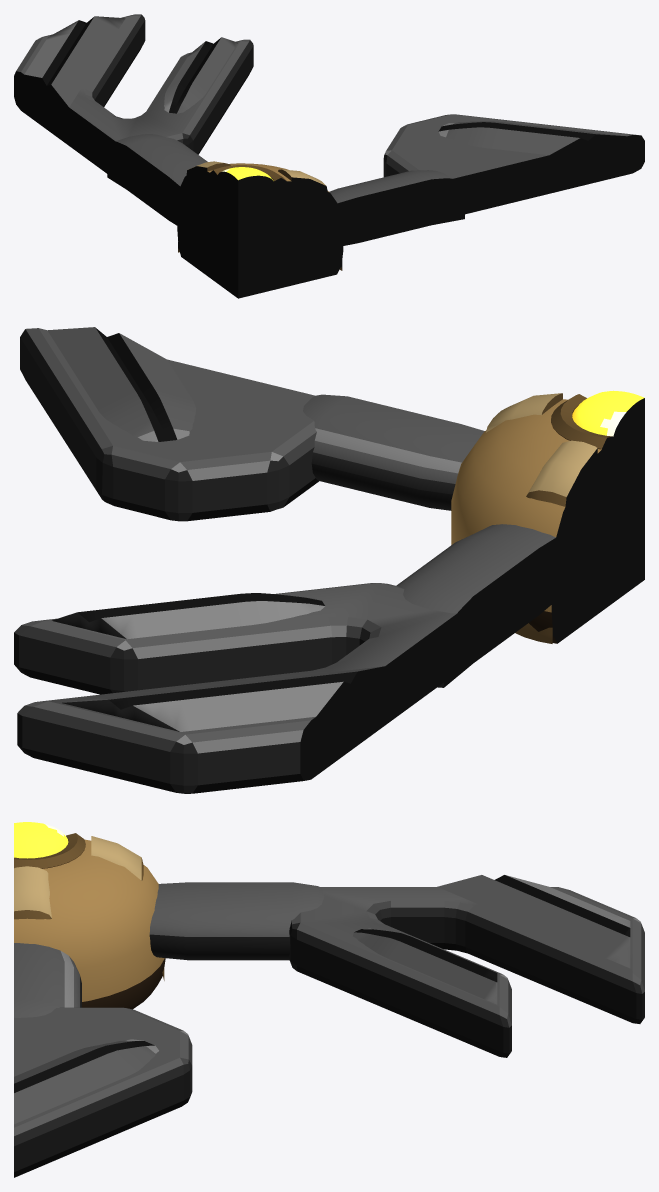
Rendered from spin_claw_79.glb.
The picture shows the model from 3 angles, top to bottom: view 1: azimuth 30°, elevation 25°; view 2: azimuth 150°, elevation 25°; view 3: azimuth 270°, elevation 25°; orthographic projection. The views are drawn at different scales.
Visible parts, largest first — view 1: spin_claw_79_hub_dome, spin_claw_79_arm0_plate, spin_claw_79_arm1_plate, spin_claw_79_arm1_rod, spin_claw_79_arm0_rod, spin_claw_79_arm0_ridge0, spin_claw_79_arm1_ridge0, spin_claw_79_arm0_ridge1, spin_claw_79_hub_lens, spin_claw_79_hub_rib1, spin_claw_79_hub_bezel; view 2: spin_claw_79_arm0_plate, spin_claw_79_arm1_plate, spin_claw_79_hub_dome, spin_claw_79_arm0_rod, spin_claw_79_arm1_rod, spin_claw_79_arm0_ridge0, spin_claw_79_arm1_ridge0, spin_claw_79_arm0_ridge1, spin_claw_79_hub_rib0, spin_claw_79_hub_lens, spin_claw_79_hub_bezel, spin_claw_79_hub_rib1; view 3: spin_claw_79_arm0_plate, spin_claw_79_arm1_plate, spin_claw_79_hub_dome, spin_claw_79_arm0_rod, spin_claw_79_arm0_ridge0, spin_claw_79_arm1_ridge0, spin_claw_79_arm1_rod, spin_claw_79_arm0_ridge1, spin_claw_79_hub_rib1, spin_claw_79_hub_lens, spin_claw_79_hub_rib0, spin_claw_79_hub_bezel.
Boxes of the visible parts, <box> form: spin_claw_79_hub_dome: <box>177,163,343,298</box>; spin_claw_79_arm0_plate: <box>14,14,253,185</box>; spin_claw_79_arm1_plate: <box>383,114,644,221</box>; spin_claw_79_arm1_rod: <box>310,170,464,251</box>; spin_claw_79_arm0_rod: <box>107,134,207,237</box>; spin_claw_79_arm0_ridge0: <box>20,16,125,117</box>; spin_claw_79_arm1_ridge0: <box>438,121,633,163</box>; spin_claw_79_arm0_ridge1: <box>164,37,237,113</box>; spin_claw_79_hub_lens: <box>217,167,274,201</box>; spin_claw_79_hub_rib1: <box>278,169,342,270</box>; spin_claw_79_hub_bezel: <box>210,165,286,200</box>; spin_claw_79_arm0_plate: <box>14,583,476,793</box>; spin_claw_79_arm1_plate: <box>20,328,319,521</box>; spin_claw_79_hub_dome: <box>451,399,644,643</box>; spin_claw_79_arm0_rod: <box>396,524,581,687</box>; spin_claw_79_arm1_rod: <box>303,394,484,510</box>; spin_claw_79_arm0_ridge0: <box>62,665,391,731</box>; spin_claw_79_arm1_ridge0: <box>47,327,195,441</box>; spin_claw_79_arm0_ridge1: <box>52,593,324,639</box>; spin_claw_79_hub_rib0: <box>515,440,597,643</box>; spin_claw_79_hub_lens: <box>572,390,644,455</box>; spin_claw_79_hub_bezel: <box>551,394,644,456</box>; spin_claw_79_hub_rib1: <box>486,393,562,432</box>; spin_claw_79_arm0_plate: <box>288,887,644,1057</box>; spin_claw_79_arm1_plate: <box>14,1007,192,1177</box>; spin_claw_79_hub_dome: <box>14,839,165,1009</box>; spin_claw_79_arm0_rod: <box>149,882,324,960</box>; spin_claw_79_arm0_ridge0: <box>437,875,630,968</box>; spin_claw_79_arm1_ridge0: <box>14,1039,158,1124</box>; spin_claw_79_arm1_rod: <box>14,943,81,1017</box>; spin_claw_79_arm0_ridge1: <box>353,928,497,1004</box>; spin_claw_79_hub_rib1: <box>14,866,51,919</box>; spin_claw_79_hub_lens: <box>14,822,68,858</box>; spin_claw_79_hub_rib0: <box>91,836,164,980</box>; spin_claw_79_hub_bezel: <box>14,833,85,868</box>.
Size of the model in its own units: 22.08 by 6.22 by 23.7.
